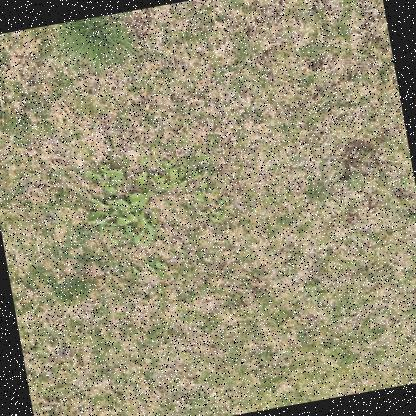Weeds: (76, 135, 227, 257), (192, 174, 232, 225), (143, 253, 169, 281), (301, 279, 325, 306), (346, 171, 365, 192)
